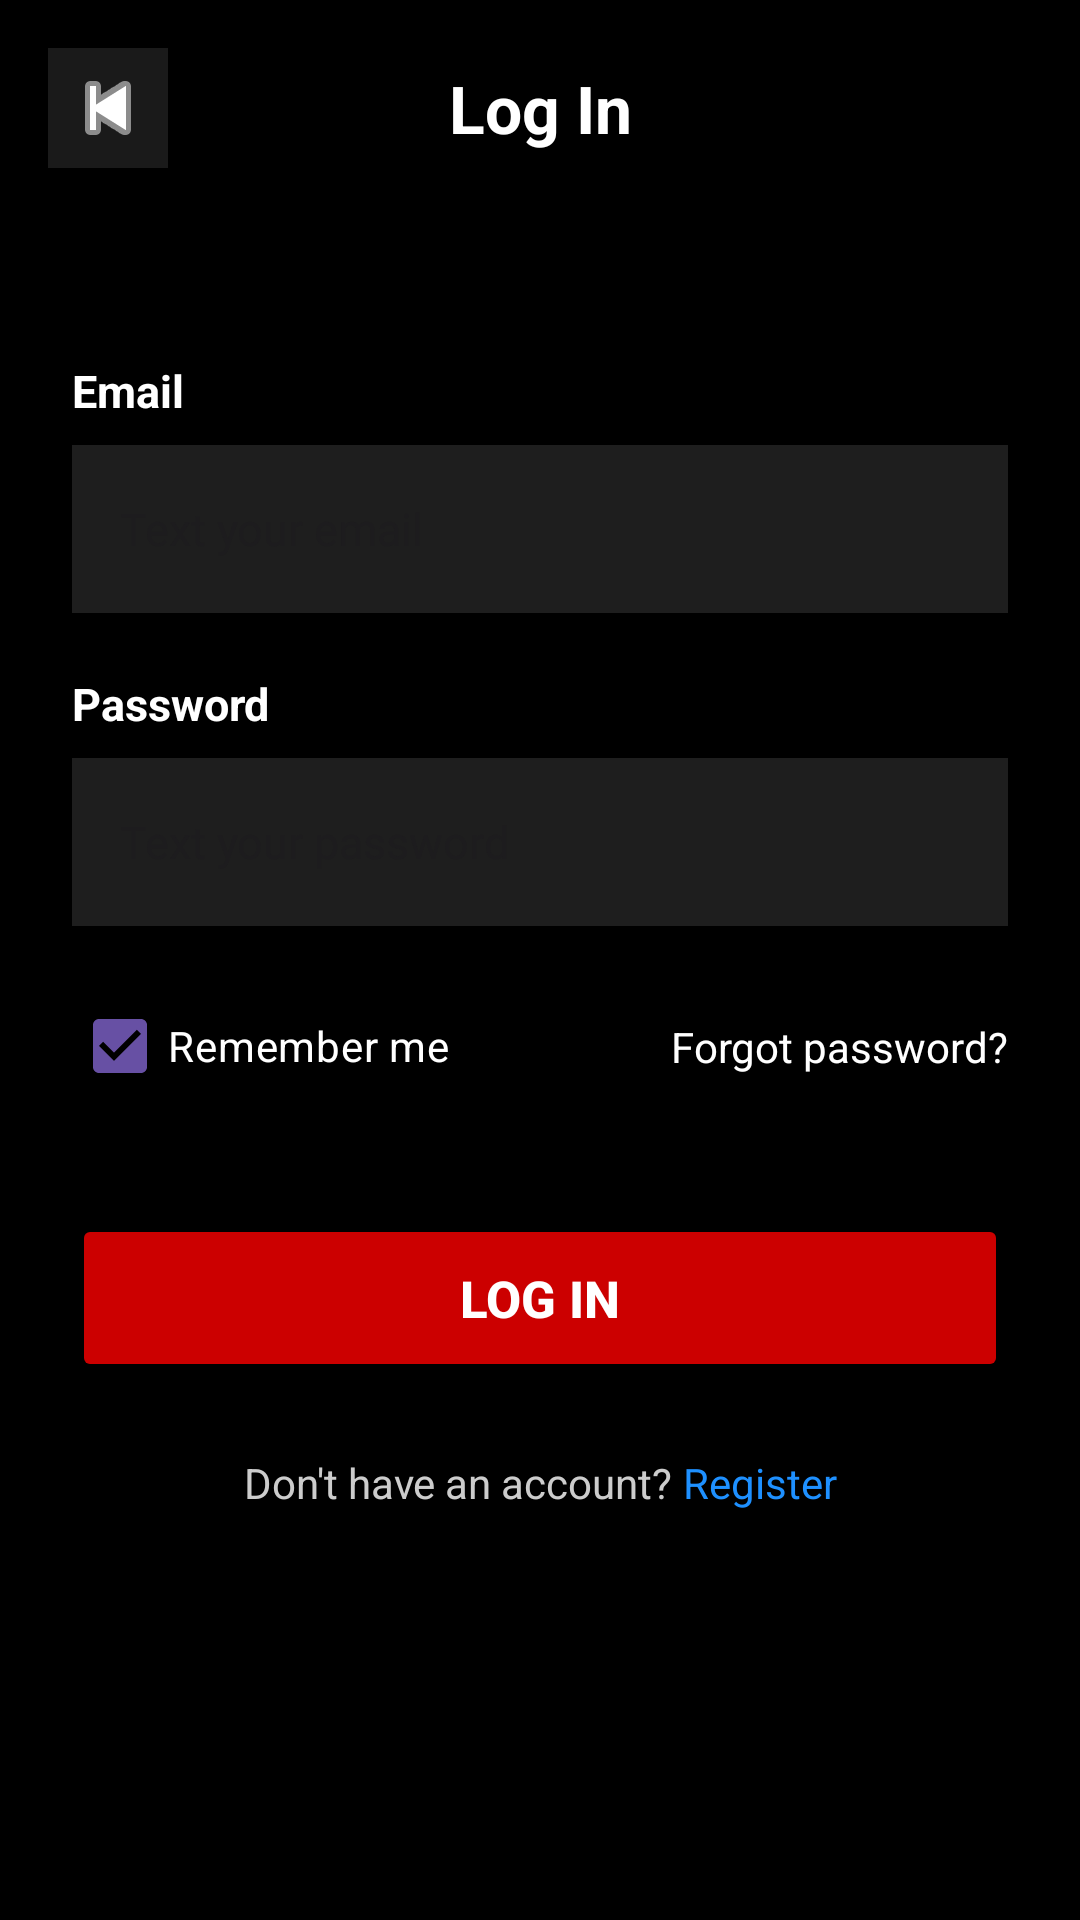

Screen size 1080 × 1920. Icon name, then its box in pixels as {"left": x1, "top": y1, "right": x2, "bottom": y2}:
Back: {"left": 48, "top": 48, "right": 168, "bottom": 168}
